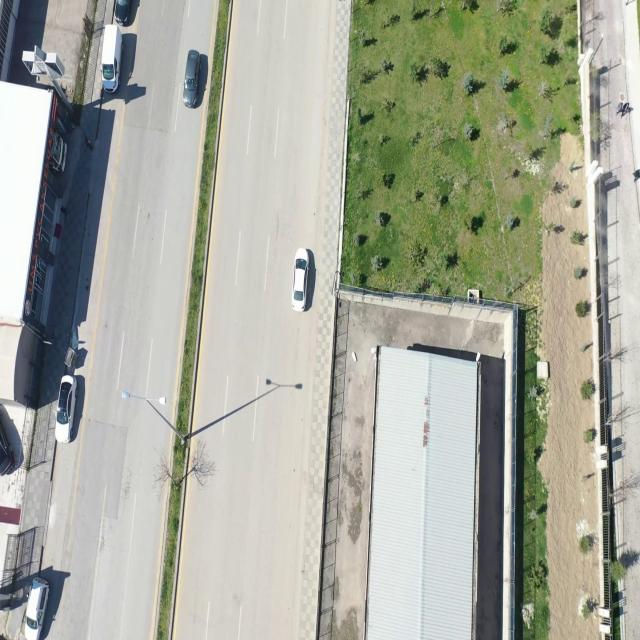p3rson: (621, 102, 629, 119), (84, 136, 93, 151), (60, 205, 70, 218), (632, 170, 640, 183), (616, 102, 622, 117)
